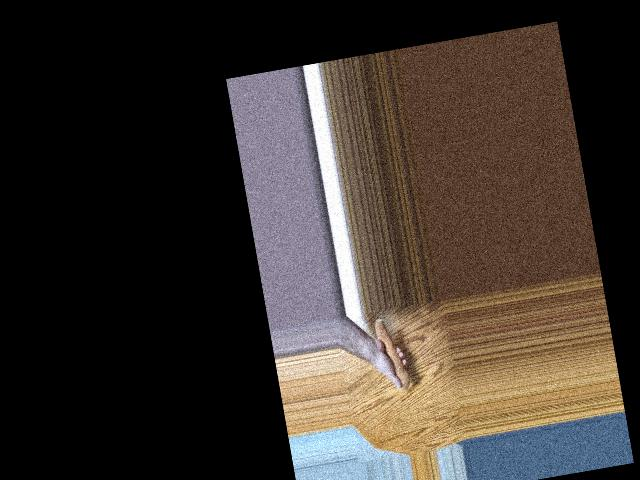sweet_potato: (372, 314, 411, 393)
